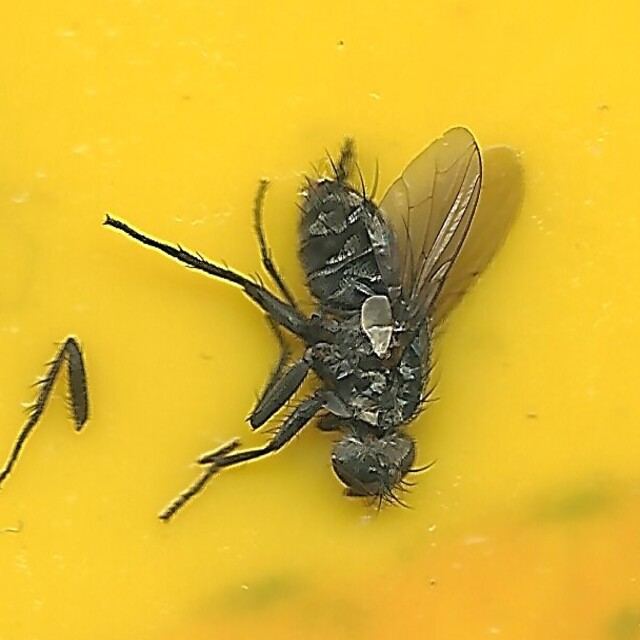Odonata: (105, 121, 535, 519)
